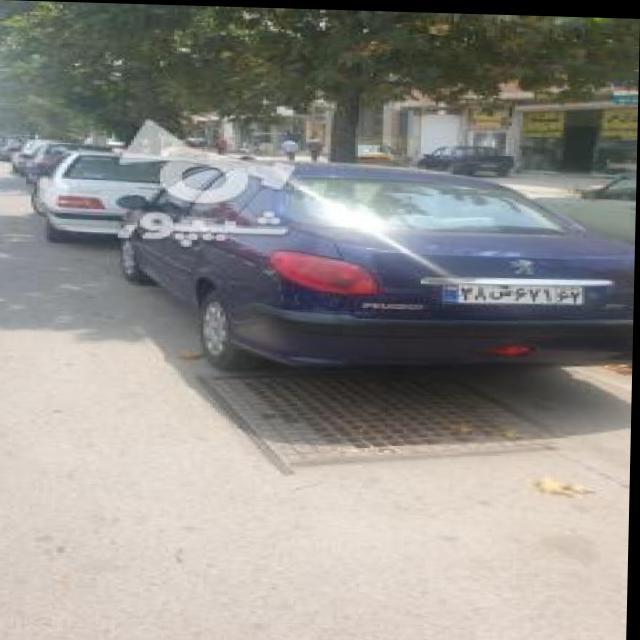licence: (438, 274, 586, 304)
